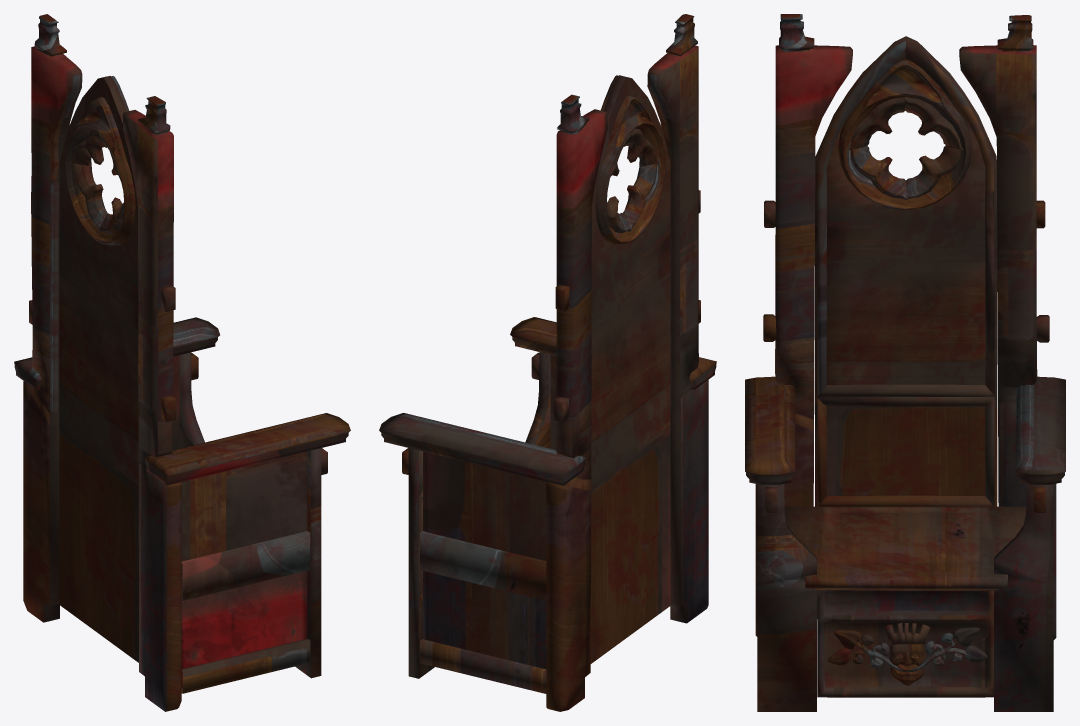
The picture shows the model from 3 angles, left to right: view 1: azimuth 30°, elevation 25°; view 2: azimuth 150°, elevation 25°; view 3: azimuth 270°, elevation 25°; orthographic projection. The views are drawn at different scales.
Parts seen in each view (by area): view 1: Throne; view 2: Throne; view 3: Throne.
Boxes of the visible parts, left/top/right/bottom form: Throne: left=14, top=14, right=350, bottom=711; Throne: left=379, top=14, right=716, bottom=711; Throne: left=745, top=14, right=1065, bottom=711.
Size of the model in its own units: 0.8089 by 2.48 by 1.16.
